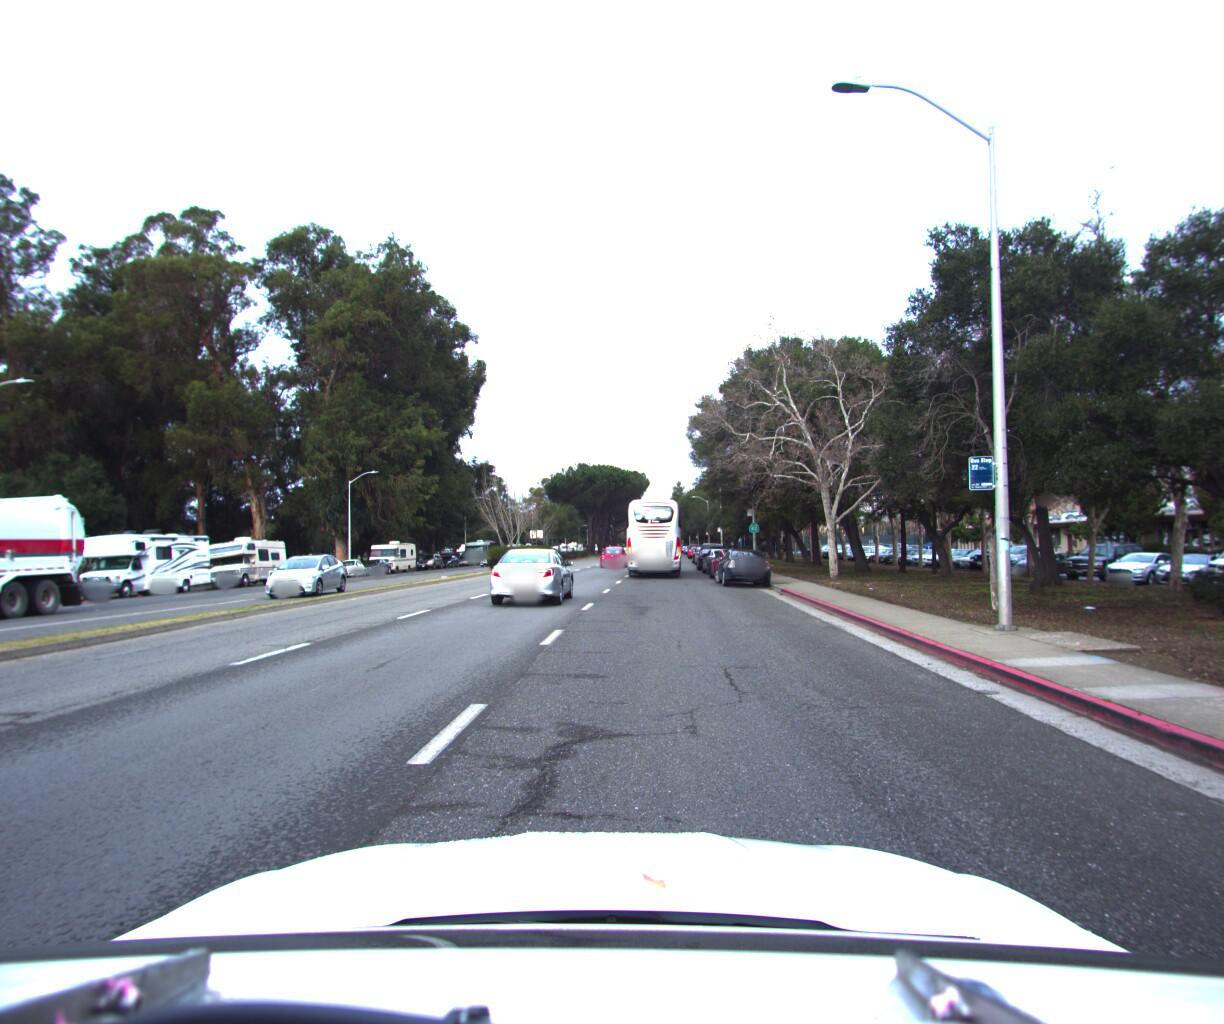bus: (619, 492, 688, 578)
car: (488, 542, 579, 605), (259, 547, 355, 598), (712, 540, 774, 585), (703, 540, 758, 578), (698, 541, 741, 571), (330, 552, 369, 575), (354, 553, 395, 574), (596, 540, 627, 564)
other_vehicle: (67, 520, 221, 604), (195, 530, 293, 587), (364, 534, 419, 571)
truck: (0, 462, 104, 662)
